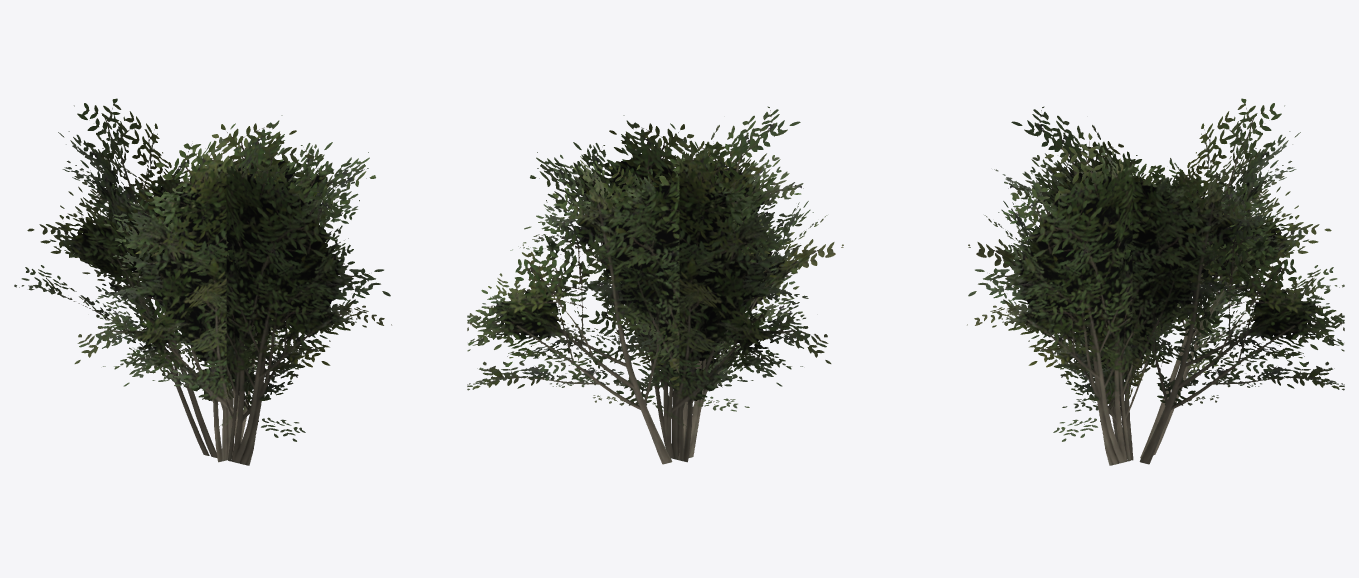
The model's file is bez_cerny_2_daleko.glb.
3 views of the same model, side by side, from view 1: azimuth 30°, elevation 25°; view 2: azimuth 150°, elevation 25°; view 3: azimuth 270°, elevation 25° (orthographic).
Visible parts, largest first — view 1: bez_cerny_2_daleko; view 2: bez_cerny_2_daleko; view 3: bez_cerny_2_daleko.
Boxes of the visible parts, x1=… form: bez_cerny_2_daleko: x1=14, y1=98, x2=391, y2=465; bez_cerny_2_daleko: x1=467, y1=106, x2=843, y2=464; bez_cerny_2_daleko: x1=967, y1=98, x2=1344, y2=465.
Size of the model in its own units: 3.9 by 3.01 by 3.38.
3 materials, 3 textured.
